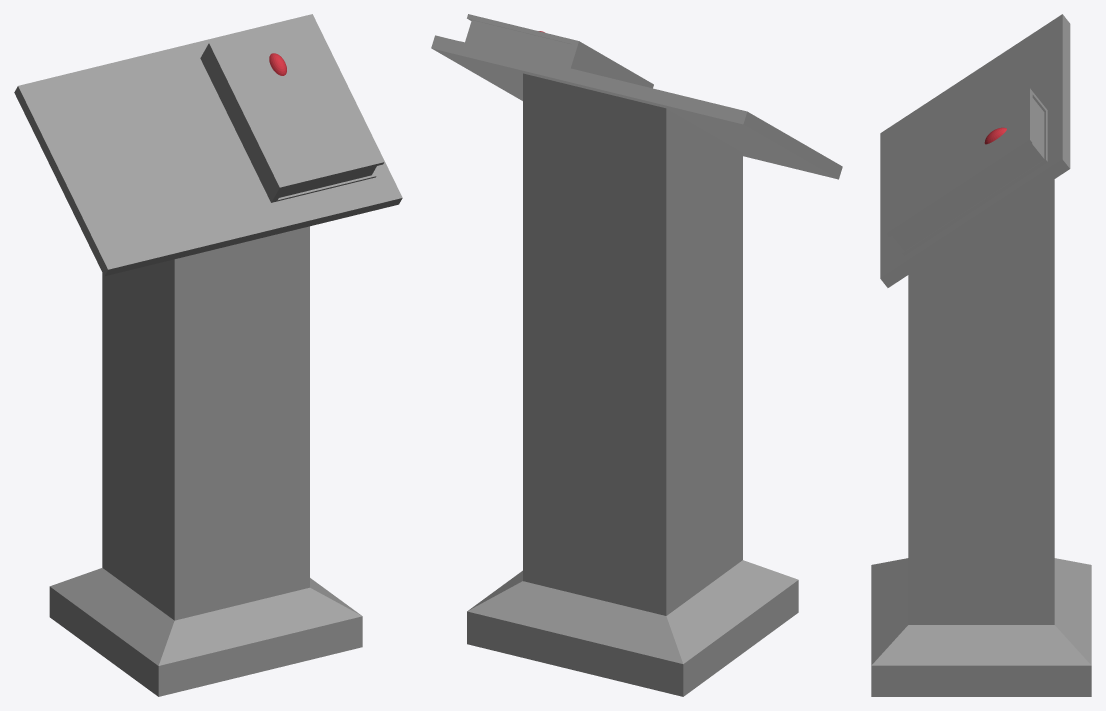
Rendered from terpasang amulet.fbx.
The picture shows the model from 3 angles, left to right: view 1: azimuth 30°, elevation 25°; view 2: azimuth 150°, elevation 25°; view 3: azimuth 270°, elevation 25°; orthographic projection. The views are drawn at different scales.
Visible parts, largest first — view 1: Cube, Cube.001, Cube.002, Cube.003; view 2: Cube, Cube.001, Cube.003, Cube.002; view 3: Cube, Cube.001, Cube.002, Cube.003.
Boxes of the visible parts, box(x1,y1,x2,y2) form: Cube: box(49, 226, 362, 696); Cube.001: box(14, 14, 402, 276); Cube.002: box(200, 17, 384, 202); Cube.003: box(279, 166, 376, 197); Cube: box(467, 73, 798, 696); Cube.001: box(431, 35, 842, 179); Cube.003: box(465, 20, 571, 66); Cube.002: box(460, 14, 653, 88); Cube: box(871, 179, 1091, 696); Cube.001: box(880, 14, 1070, 287); Cube.002: box(886, 88, 1047, 255); Cube.003: box(892, 98, 1044, 250).
Size of the model in its own units: 273 by 500 by 175.
Materials: 5 (5 with a texture image).
